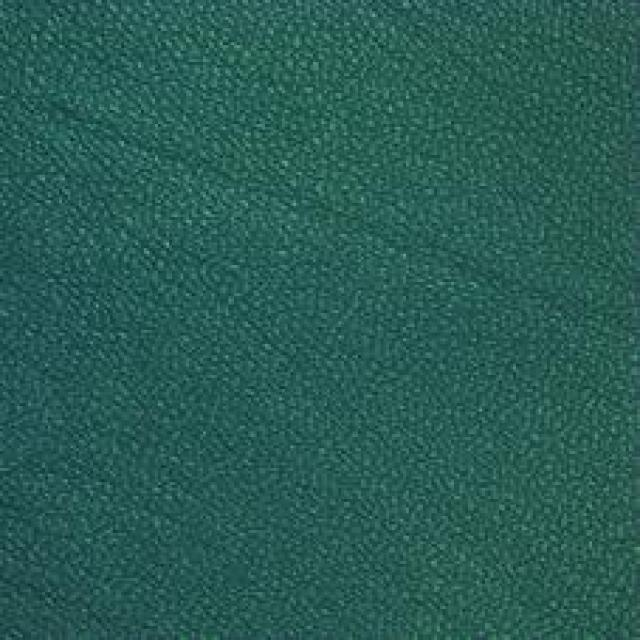Growth Marks: (304, 188, 564, 303), (59, 100, 258, 210)
